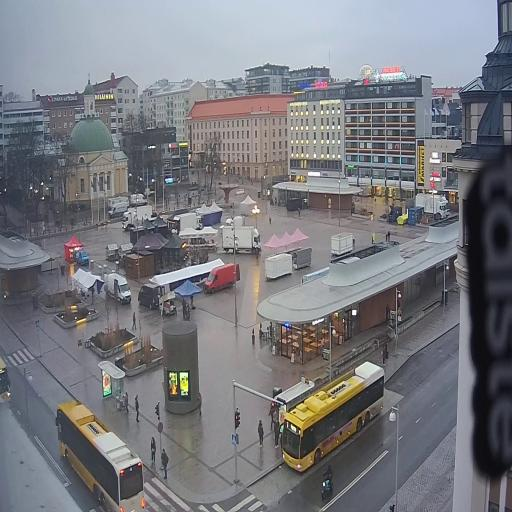bus: (280, 353, 387, 477), (51, 397, 148, 511), (0, 351, 19, 411)
delivery: (202, 261, 242, 299), (104, 268, 134, 311), (221, 225, 262, 256), (171, 207, 203, 239), (415, 191, 448, 221), (121, 204, 155, 232), (138, 280, 163, 314), (108, 199, 130, 219), (129, 188, 150, 207), (74, 246, 90, 268)
two-wheels: (318, 459, 338, 501)
